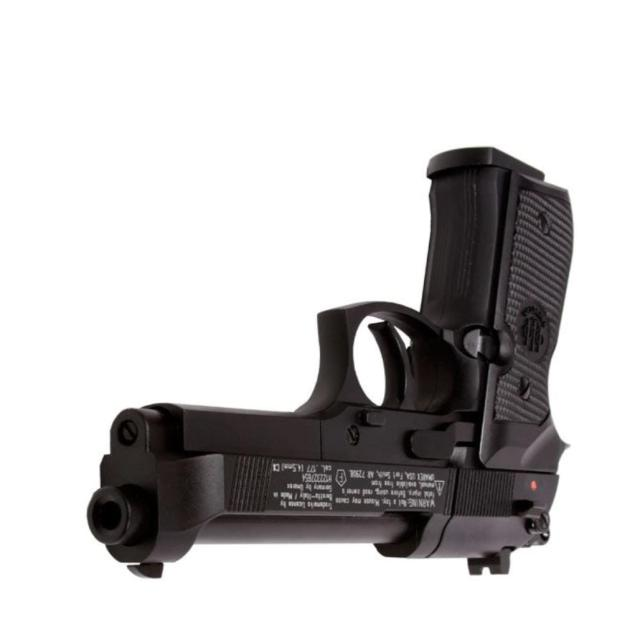Gun: (79, 108, 576, 598)
